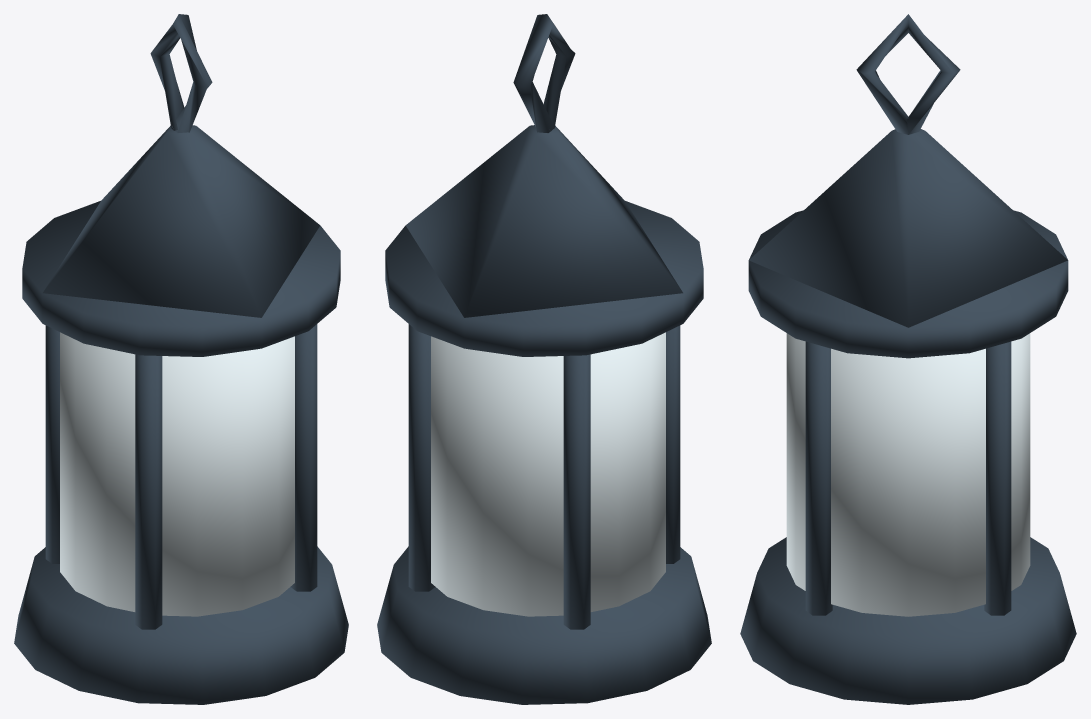
File: star-lantern.glb
The picture shows the model from 3 angles, left to right: view 1: azimuth 30°, elevation 25°; view 2: azimuth 150°, elevation 25°; view 3: azimuth 270°, elevation 25°; orthographic projection.
Visible parts, largest first — view 1: frame; view 2: frame; view 3: frame.
Part boxes in pixels (x1,y1,x2,y2): frame: (14,14,348,704); frame: (377,14,711,704); frame: (740,14,1076,704).
Bounding box in the file's own units: 0.4 × 0.8114 × 0.4.
